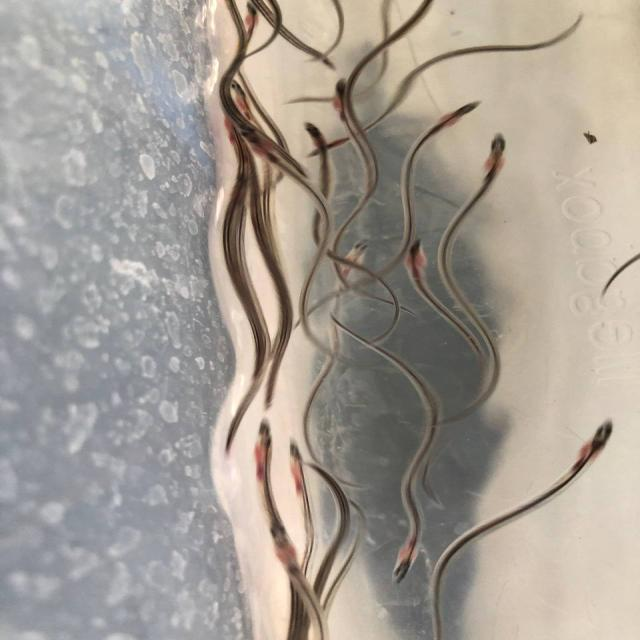glass_eel: (260, 518, 308, 568), (574, 415, 622, 465), (432, 99, 486, 132), (387, 542, 426, 586), (481, 129, 514, 175), (248, 415, 278, 465), (297, 119, 333, 156), (234, 122, 274, 154), (329, 76, 354, 125), (399, 234, 427, 275), (284, 433, 312, 473), (334, 239, 372, 268), (225, 79, 250, 109)
